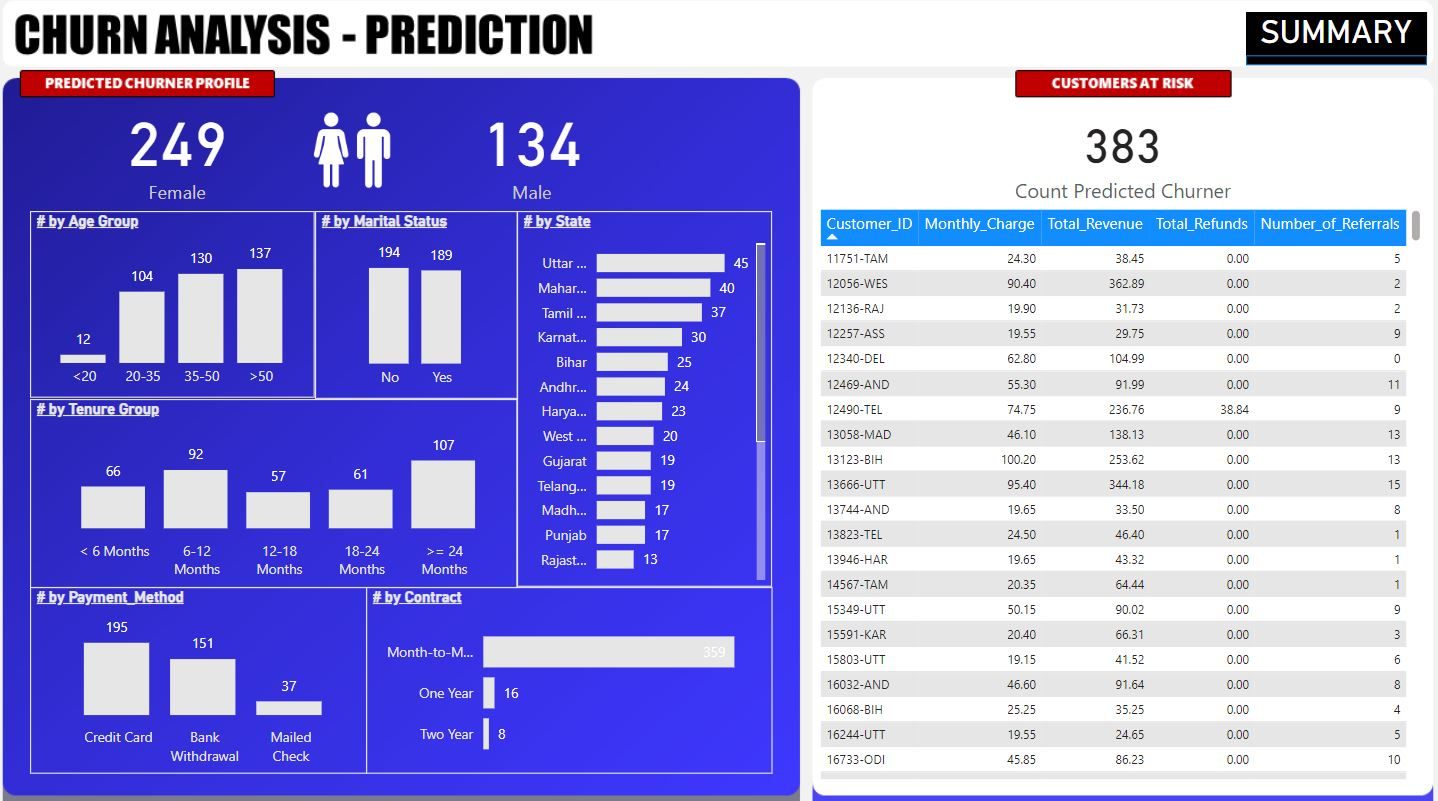

The page's visual inventory and layout, read from the dashboard file:
{"tool":"powerbi","page":{"name":"Churn Prediction","canvas":[1280,720],"ordinal":1},"visuals":[{"type":"tableEx","fields":{"Values":["Predictions.Customer_ID","Predictions.Monthly_Charge","Predictions.Total_Revenue","Predictions.Total_Refunds","Predictions.Number_of_Referrals"]},"box":[724.4,187.8,537.8,510],"z":0},{"type":"card","fields":{"Values":["tbl_Measures.Count Predicted Churner"]},"box":[845.6,98.9,300,88.9],"z":1000},{"type":"card","fields":{"Values":["tbl_Measures.Count Predicted Churner"]},"box":[22.2,90,286.7,97.8],"z":2000},{"type":"card","fields":{"Values":["tbl_Measures.Count Predicted Churner"]},"box":[326.7,90,300,97.8],"z":3000},{"type":"clusteredColumnChart","fields":{"Category":["mapping_AgeGrp.Age Group"],"Y":["CountNonNull(Predictions.Customer_ID)"]},"box":[35.7,194.4,250,164.4],"z":4000},{"type":"clusteredColumnChart","fields":{"Category":["Predictions.Married"],"Y":["CountNonNull(Predictions.Customer_ID)"]},"box":[285.9,194.2,177.5,165],"z":5000},{"type":"clusteredColumnChart","fields":{"Category":["mapping_TenureGrp.Tenure Group"],"Y":["CountNonNull(Predictions.Customer_ID)"]},"box":[35.7,358.9,427.8,165.6],"z":6000},{"type":"clusteredColumnChart","fields":{"Category":["Predictions.Payment_Method"],"Y":["CountNonNull(Predictions.Customer_ID)"]},"box":[35.7,524.4,295.6,164.4],"z":7000},{"type":"clusteredBarChart","fields":{"Category":["Predictions.Contract"],"Y":["CountNonNull(Predictions.Customer_ID)"]},"box":[331.2,524.4,356.7,164.4],"z":8000},{"type":"clusteredBarChart","fields":{"Y":["CountNonNull(Predictions.Customer_ID)"],"Category":["Predictions.State"]},"box":[463.4,194.4,224.4,330],"z":9000},{"type":"shape","title":"SUMMARY","box":[1103.3,18.9,158.9,46.7],"z":10000},{"type":"image","box":[146.7,93.3,344.4,94.4],"z":11000}]}

Visuals, with their boxes in screenshot pixels (x1, y1, x2, y2), scaled from the page's 1280x720 canvas onto the 1438x801 screenshot:
tableEx - Predictions.Customer_ID x Predictions.Monthly_Charge: crop(814, 209, 1418, 776)
card - tbl_Measures.Count Predicted Churner: crop(950, 110, 1287, 209)
card - tbl_Measures.Count Predicted Churner: crop(25, 100, 347, 209)
card - tbl_Measures.Count Predicted Churner: crop(367, 100, 704, 209)
clusteredColumnChart - mapping_AgeGrp.Age Group x CountNonNull(Predictions.Customer_ID): crop(40, 216, 321, 399)
clusteredColumnChart - Predictions.Married x CountNonNull(Predictions.Customer_ID): crop(321, 216, 521, 400)
clusteredColumnChart - mapping_TenureGrp.Tenure Group x CountNonNull(Predictions.Customer_ID): crop(40, 399, 521, 584)
clusteredColumnChart - Predictions.Payment_Method x CountNonNull(Predictions.Customer_ID): crop(40, 583, 372, 766)
clusteredBarChart - Predictions.Contract x CountNonNull(Predictions.Customer_ID): crop(372, 583, 773, 766)
clusteredBarChart - CountNonNull(Predictions.Customer_ID) x Predictions.State: crop(521, 216, 773, 583)
"SUMMARY" shape: crop(1239, 21, 1418, 73)
image: crop(165, 104, 552, 209)
